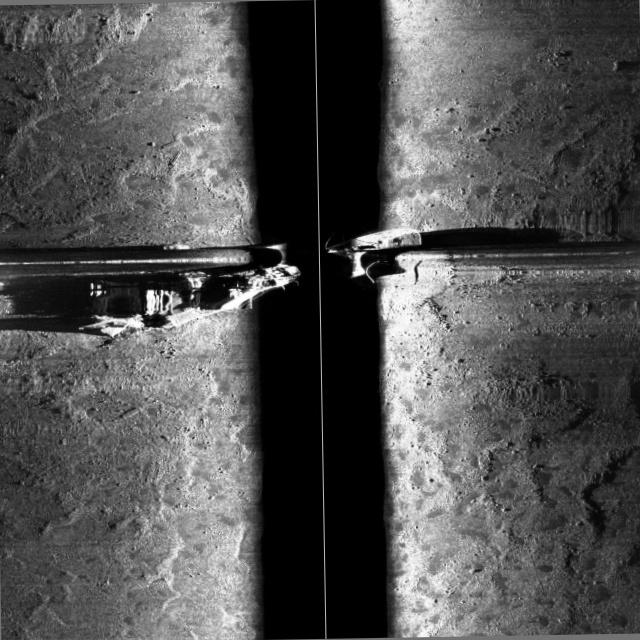Shipwreck: (5, 135, 424, 421)
